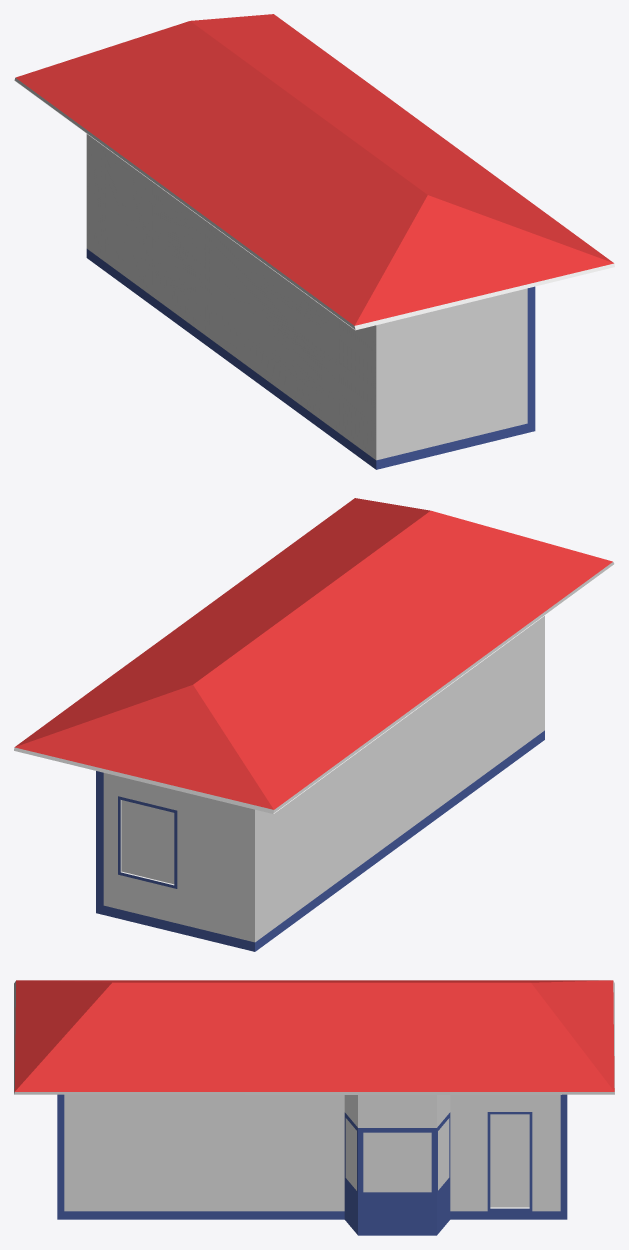
File: station.glb
3 views of the same model, one above another, from view 1: azimuth 30°, elevation 25°; view 2: azimuth 150°, elevation 25°; view 3: azimuth 270°, elevation 25° (orthographic). The views are drawn at different scales.
Parts seen in each view (by area): view 1: station; view 2: station; view 3: station.
Part boxes in pixels (x1,y1,x2,y2): station: (14, 14, 614, 469); station: (14, 498, 614, 951); station: (14, 980, 614, 1235).
Size of the model in its own units: 6.83 by 5.83 by 15.55.
Materials: 1 (1 with a texture image).
